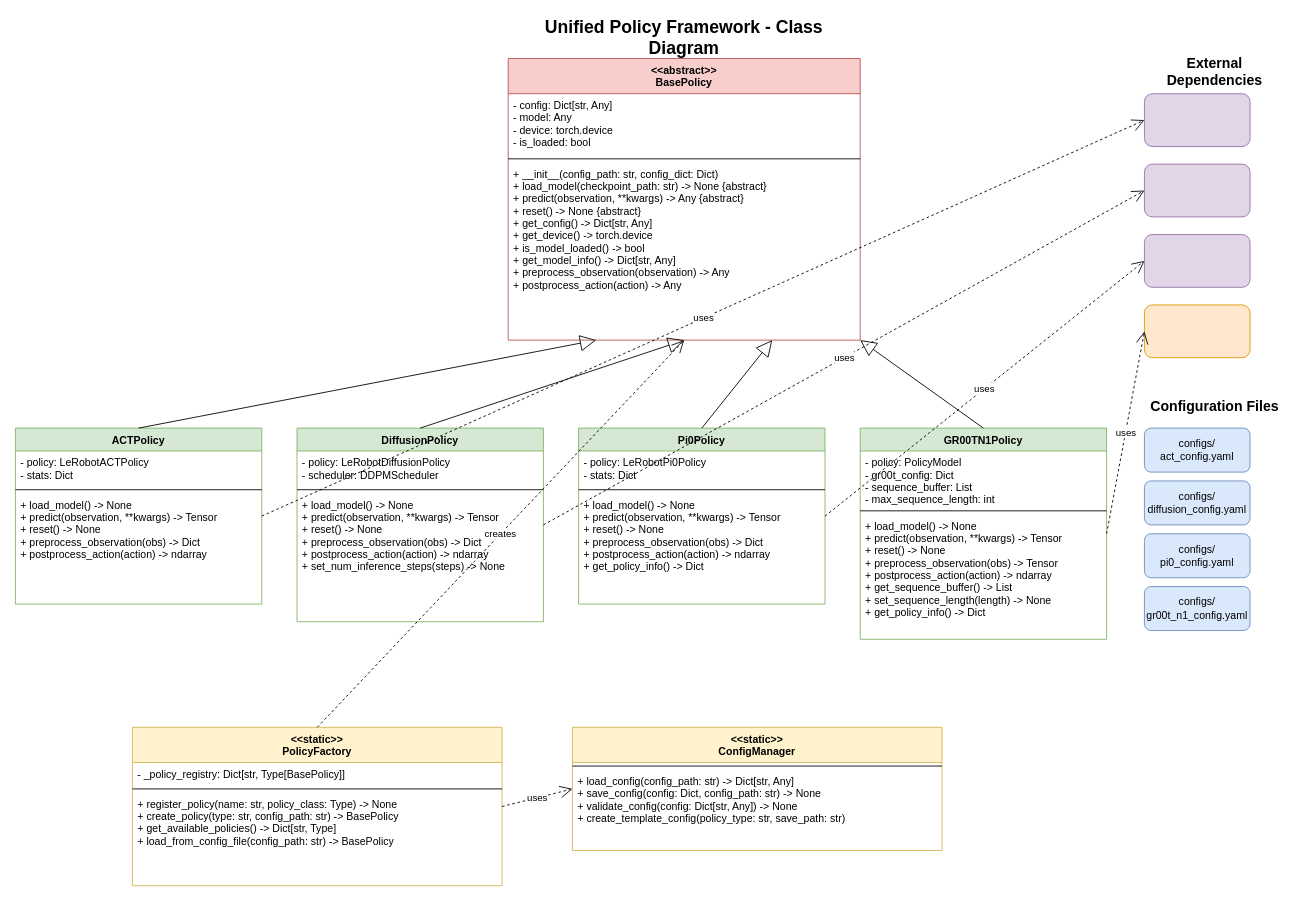
Some shapes in this 1301 by 903 pixel diagram are drawn without their labels. Each missing label, with the box of its shape:
GR00T PolicyModel: (1144, 304, 1250, 358)
LeRobot ACTPolicy: (1144, 93, 1250, 147)
LeRobot DiffusionPolicy: (1144, 163, 1250, 217)
LeRobot Pi0Policy: (1144, 234, 1250, 287)
